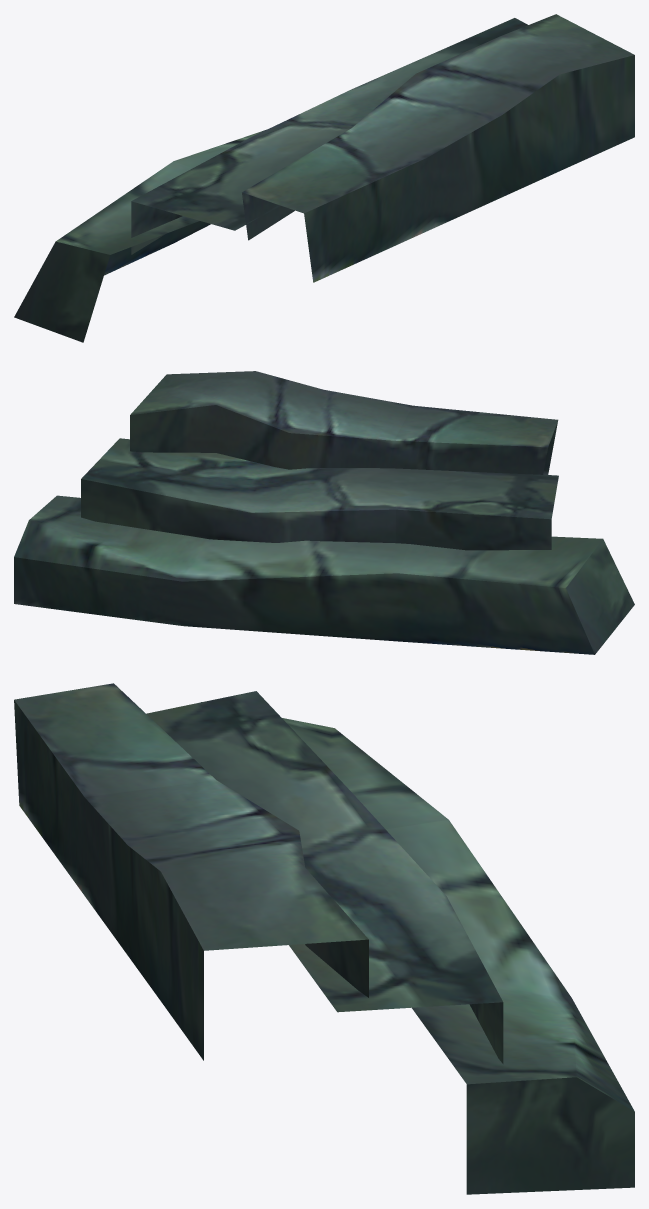
File: shilianzhidi04_shijie01.FBX
3 views of the same model, one above another, from view 1: azimuth 30°, elevation 25°; view 2: azimuth 150°, elevation 25°; view 3: azimuth 270°, elevation 25° (orthographic). The views are drawn at different scales.
Visible parts, largest first — view 1: shilianzhidi04_shijie01_002, shilianzhidi04_shijie01_001, shilianzhidi04_shijie01_000; view 2: shilianzhidi04_shijie01_000, shilianzhidi04_shijie01_001, shilianzhidi04_shijie01_002; view 3: shilianzhidi04_shijie01_002, shilianzhidi04_shijie01_000, shilianzhidi04_shijie01_001.
Boxes of the visible parts, box(x1,y1,x2,y2) form: shilianzhidi04_shijie01_002: box(242, 14, 634, 282); shilianzhidi04_shijie01_001: box(131, 18, 527, 254); shilianzhidi04_shijie01_000: box(14, 129, 266, 342); shilianzhidi04_shijie01_000: box(14, 495, 634, 654); shilianzhidi04_shijie01_001: box(81, 438, 558, 550); shilianzhidi04_shijie01_002: box(130, 371, 558, 474); shilianzhidi04_shijie01_002: box(14, 683, 368, 1060); shilianzhidi04_shijie01_000: box(201, 702, 634, 1194); shilianzhidi04_shijie01_001: box(146, 691, 503, 1063).
Bounding box in the file's own units: 751 × 499 × 214.
1 material, 1 textured.
